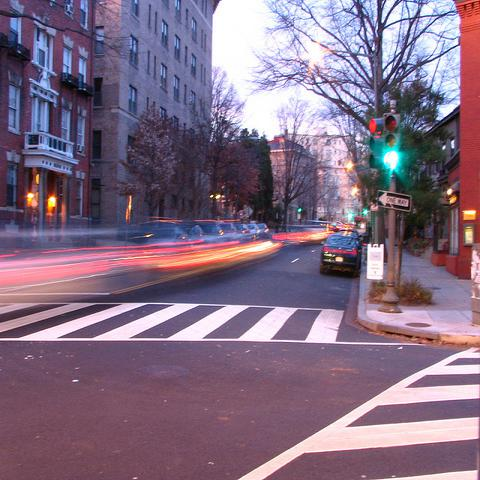car: (320, 228, 362, 278), (188, 224, 224, 235), (243, 224, 262, 241), (219, 222, 240, 235), (170, 230, 188, 242), (257, 223, 269, 235)
